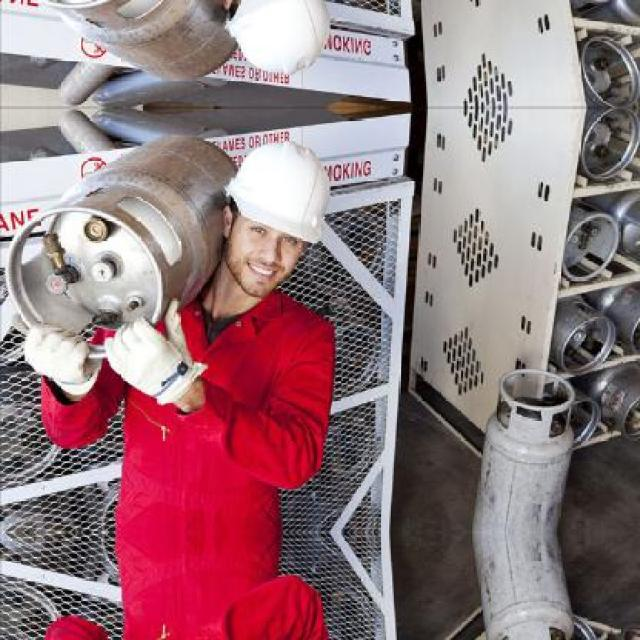helmet: (226, 137, 331, 294), (226, 0, 332, 77)
